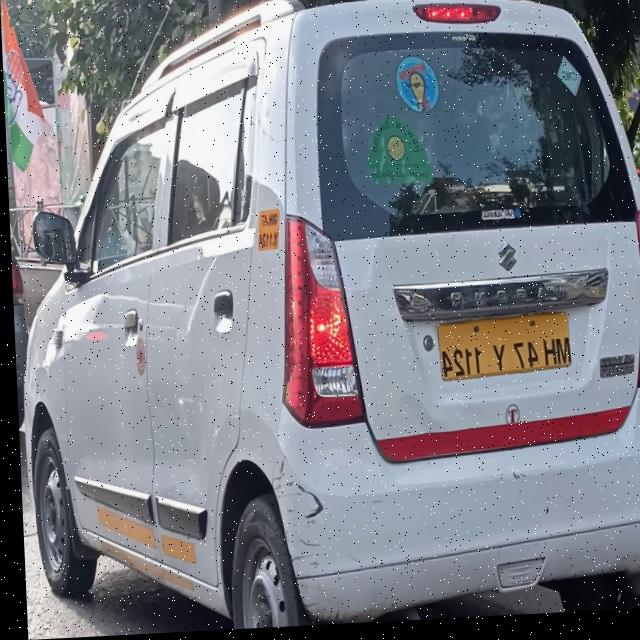plate: (434, 316, 570, 387), (251, 209, 281, 259)
